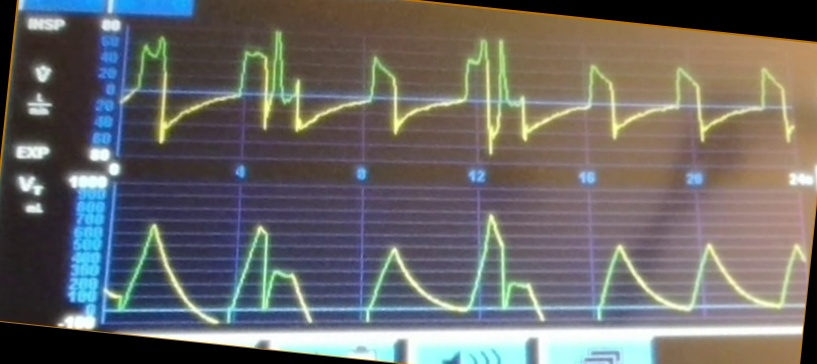Double_Triggering Flow: (123, 30, 730, 162)
Double_Triggering Volume: (108, 208, 753, 327)
